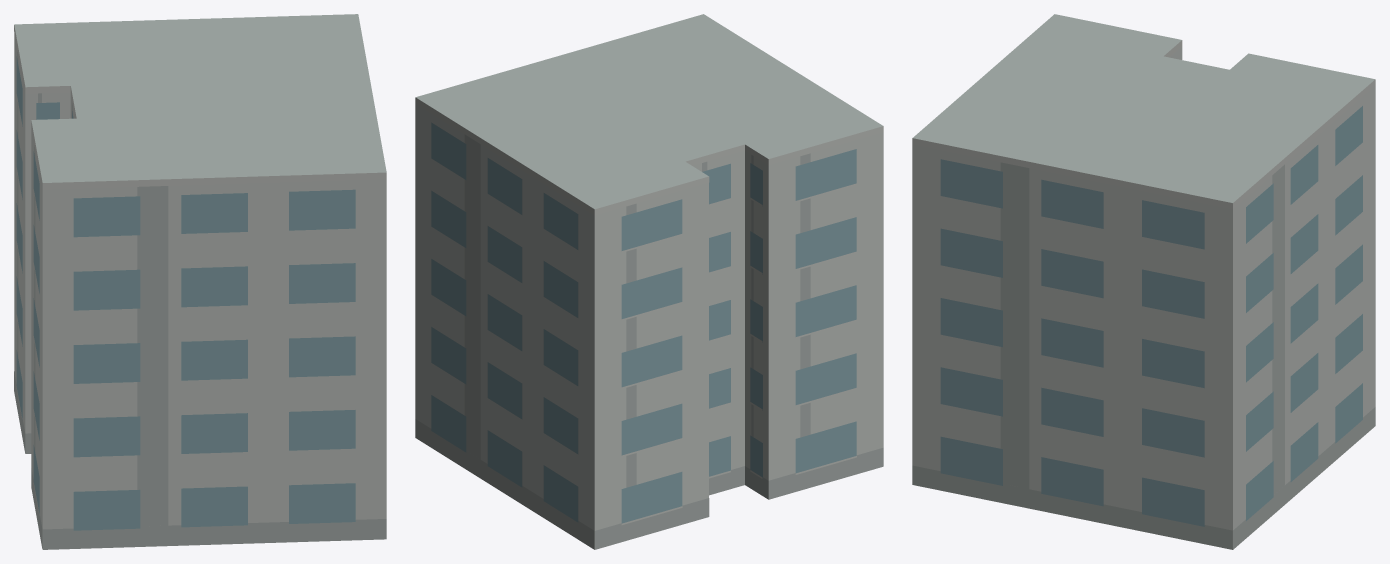
The model's file is survey-upis-32887272.glb.
3 views of the same model, side by side, from view 1: azimuth 30°, elevation 25°; view 2: azimuth 150°, elevation 25°; view 3: azimuth 270°, elevation 25° (orthographic). The views are drawn at different scales.
Parts seen in each view (by area): view 1: survey-upis-32887272.tmp; view 2: survey-upis-32887272.tmp; view 3: survey-upis-32887272.tmp.
Part boxes in pixels (x1,y1,x2,y2): survey-upis-32887272.tmp: (14,14,386,549); survey-upis-32887272.tmp: (415,14,883,549); survey-upis-32887272.tmp: (912,14,1375,549).
Bounding box in the file's own units: 15.62 × 13.35 × 16.17.
